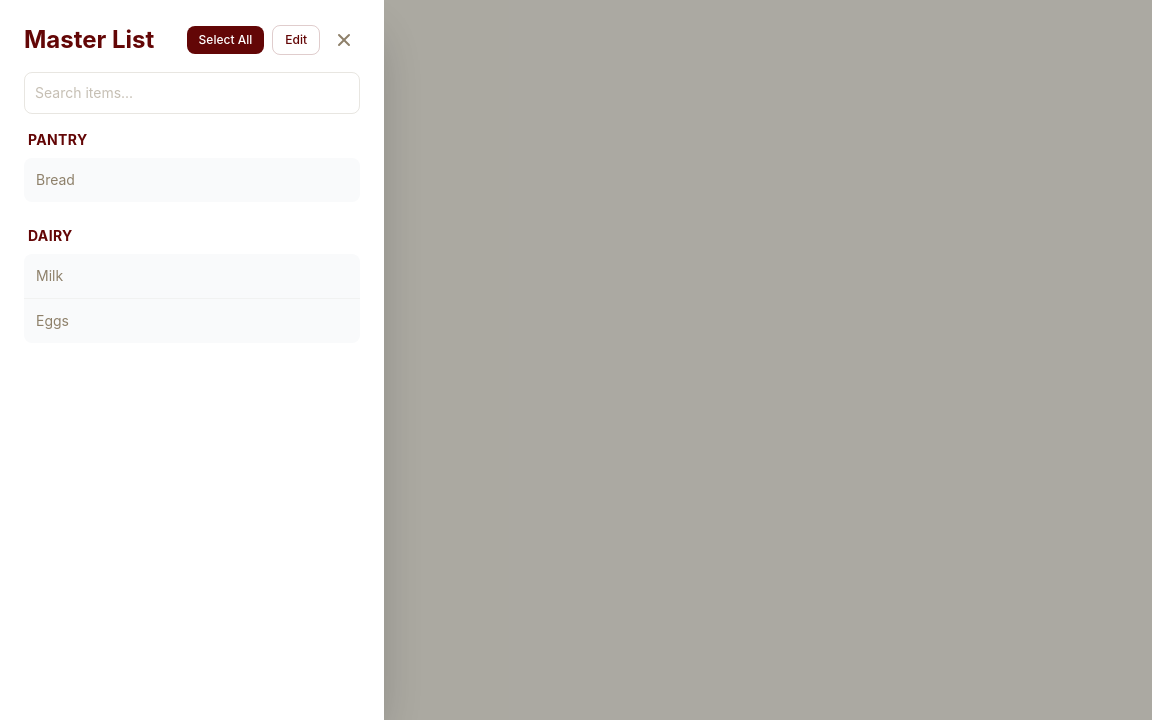
it: MasterList — search › filters items by search query
Type "Bread" into the field with placeholder "Search items...".
click(192, 93); type("Bread")  # box [24, 72, 360, 114]
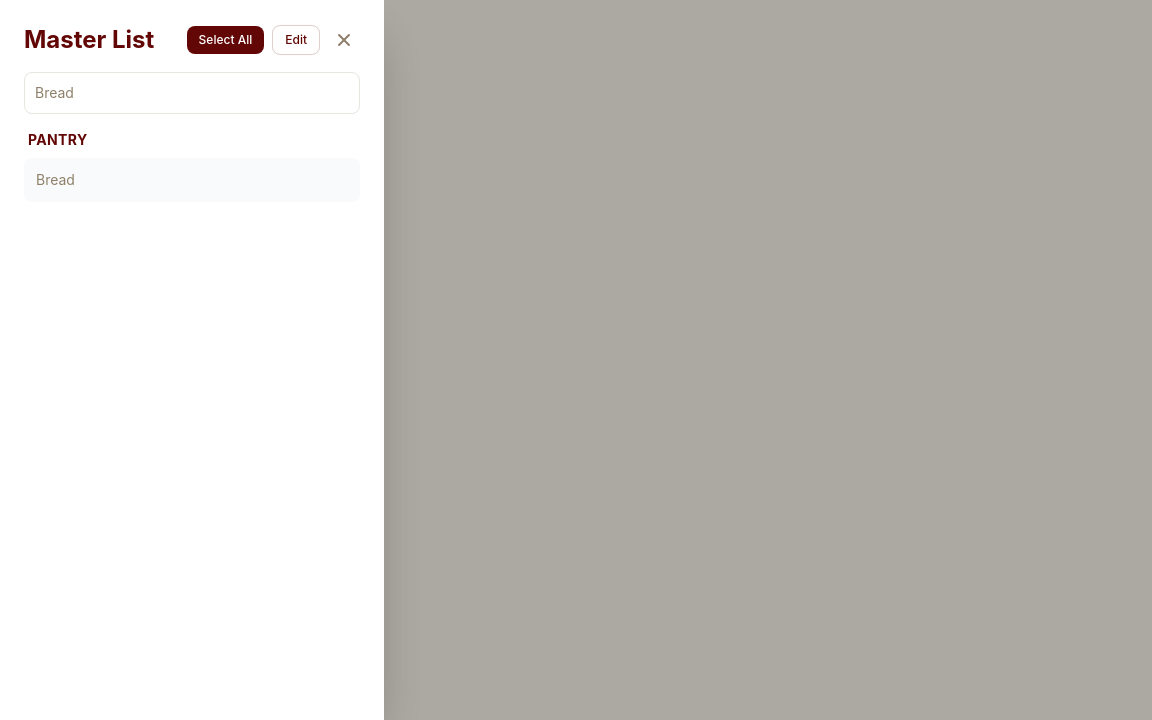
Expected: the text "Bread" is shown, [36, 171, 75, 188]
Expected: the text "Milk" is gone
